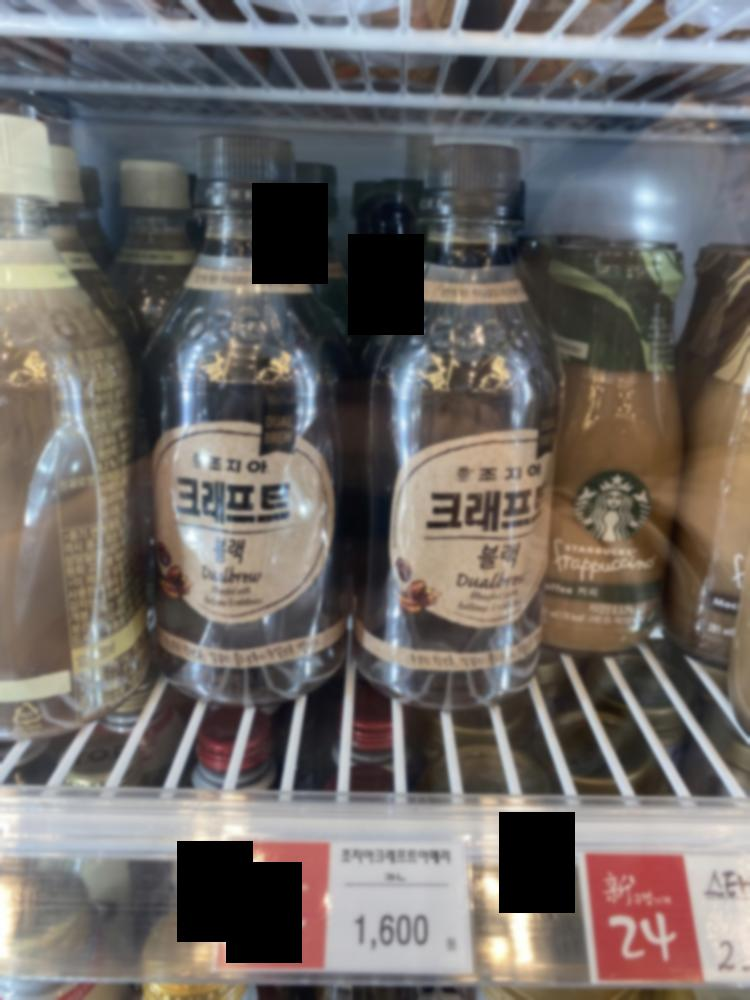georgiacraft_black: (363, 138, 587, 718), (161, 133, 331, 708)
